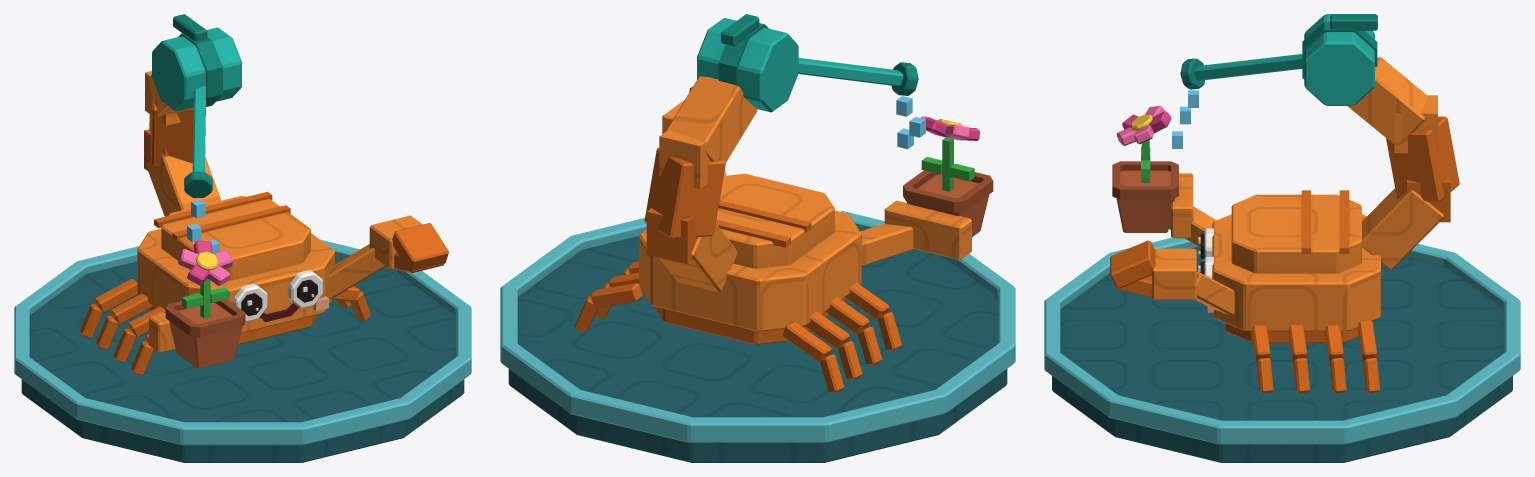
File: CanScorpion.fbx
3 renders of one model, left to right at view 1: azimuth 30°, elevation 25°; view 2: azimuth 150°, elevation 25°; view 3: azimuth 270°, elevation 25°, orthographic. The views are drawn at different scales.
Visible parts, largest first — view 1: Art_CanScorpion_Stand, Art_CanScorpion_Body, Art_CanScorpion_Can, Art_CanScorpion_ClawL, Art_CanScorpion_Tail, Art_CanScorpion_ClawR, Art_CanScorpion_LegsL, Art_CanScorpion_LegsR; view 2: Art_CanScorpion_Stand, Art_CanScorpion_Body, Art_CanScorpion_Tail, Art_CanScorpion_Can, Art_CanScorpion_ClawL, Art_CanScorpion_LegsL, Art_CanScorpion_LegsR; view 3: Art_CanScorpion_Stand, Art_CanScorpion_Body, Art_CanScorpion_Tail, Art_CanScorpion_Can, Art_CanScorpion_ClawL, Art_CanScorpion_ClawR, Art_CanScorpion_LegsR.
Boxes of the visible parts, x1=… form: Art_CanScorpion_Stand: x1=14, y1=239, x2=471, y2=462; Art_CanScorpion_Body: x1=137, y1=191, x2=334, y2=344; Art_CanScorpion_Can: x1=152, y1=14, x2=241, y2=253; Art_CanScorpion_ClawL: x1=149, y1=240, x2=245, y2=368; Art_CanScorpion_Tail: x1=144, y1=71, x2=221, y2=216; Art_CanScorpion_ClawR: x1=325, y1=215, x2=448, y2=299; Art_CanScorpion_LegsL: x1=80, y1=279, x2=165, y2=374; Art_CanScorpion_LegsR: x1=332, y1=286, x2=370, y2=320; Art_CanScorpion_Stand: x1=500, y1=210, x2=1015, y2=462; Art_CanScorpion_Body: x1=639, y1=173, x2=861, y2=344; Art_CanScorpion_Tail: x1=644, y1=76, x2=757, y2=292; Art_CanScorpion_Can: x1=697, y1=14, x2=925, y2=149; Art_CanScorpion_ClawL: x1=860, y1=116, x2=993, y2=266; Art_CanScorpion_LegsL: x1=783, y1=282, x2=901, y2=392; Art_CanScorpion_LegsR: x1=574, y1=261, x2=642, y2=332; Art_CanScorpion_Stand: x1=1044, y1=237, x2=1520, y2=462; Art_CanScorpion_Body: x1=1198, y1=190, x2=1380, y2=342; Art_CanScorpion_Tail: x1=1347, y1=57, x2=1459, y2=269; Art_CanScorpion_Can: x1=1172, y1=14, x2=1377, y2=148; Art_CanScorpion_ClawL: x1=1112, y1=106, x2=1216, y2=247; Art_CanScorpion_ClawR: x1=1110, y1=240, x2=1234, y2=315; Art_CanScorpion_LegsR: x1=1251, y1=321, x2=1379, y2=392.
Size of the model in its own units: 2.99 by 2.36 by 2.99.
